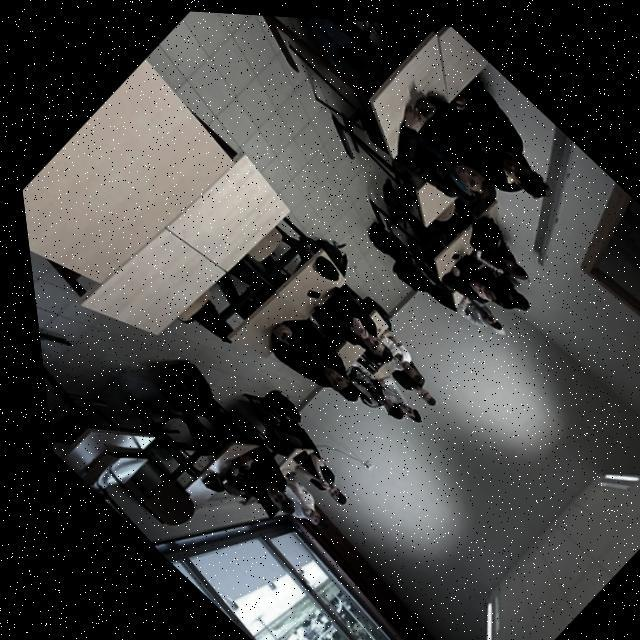phone_use: (395, 77, 542, 216), (412, 78, 546, 215), (270, 285, 364, 399), (202, 444, 292, 515), (352, 319, 423, 388), (456, 252, 528, 308)
